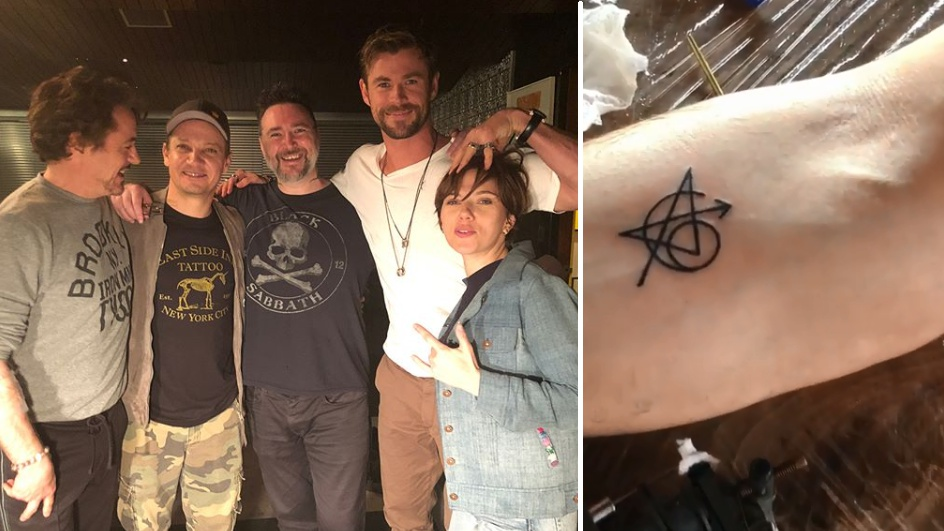bad: (363, 66, 425, 129), (163, 135, 225, 198), (439, 191, 501, 253), (262, 118, 314, 170)
